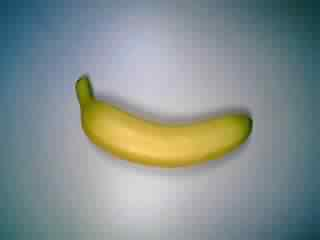banana: (68, 73, 256, 170)
